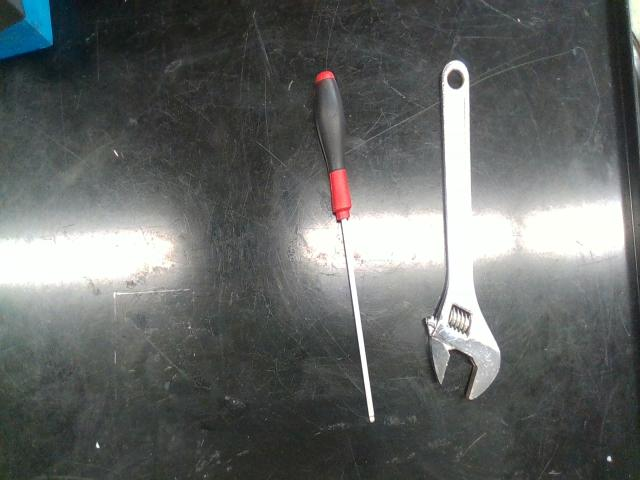Adjustable spanner: (425, 60, 500, 400)
Screwdriver: (315, 70, 375, 422)
